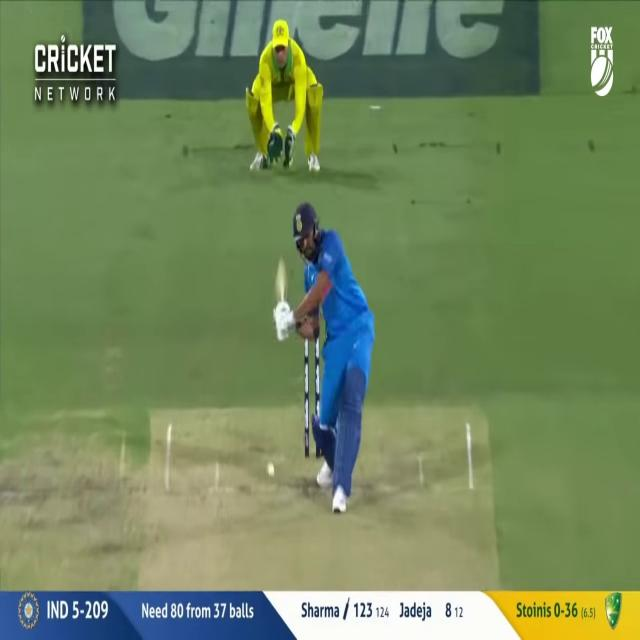ball: (266, 462, 276, 478)
stump: (304, 338, 321, 461)
